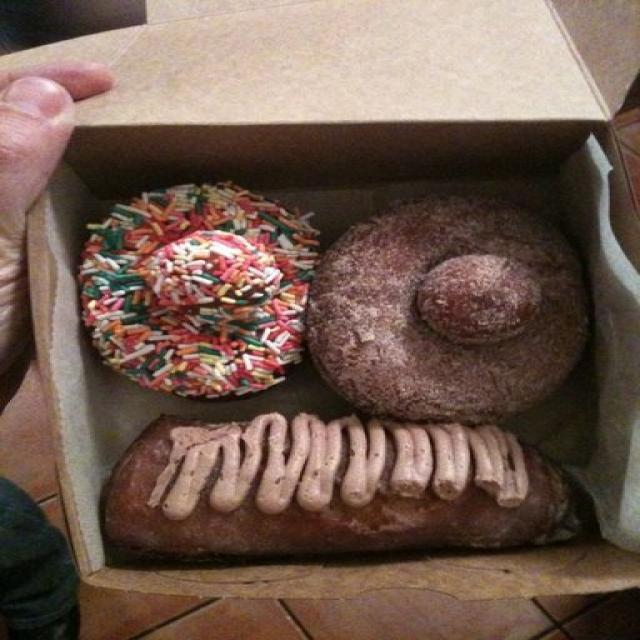Donuts: (67, 181, 619, 565)
